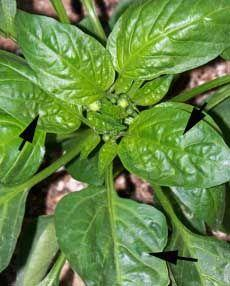Bell_pepper leaf spot: (54, 186, 175, 286), (15, 10, 117, 98), (122, 108, 230, 186), (1, 48, 77, 134)
